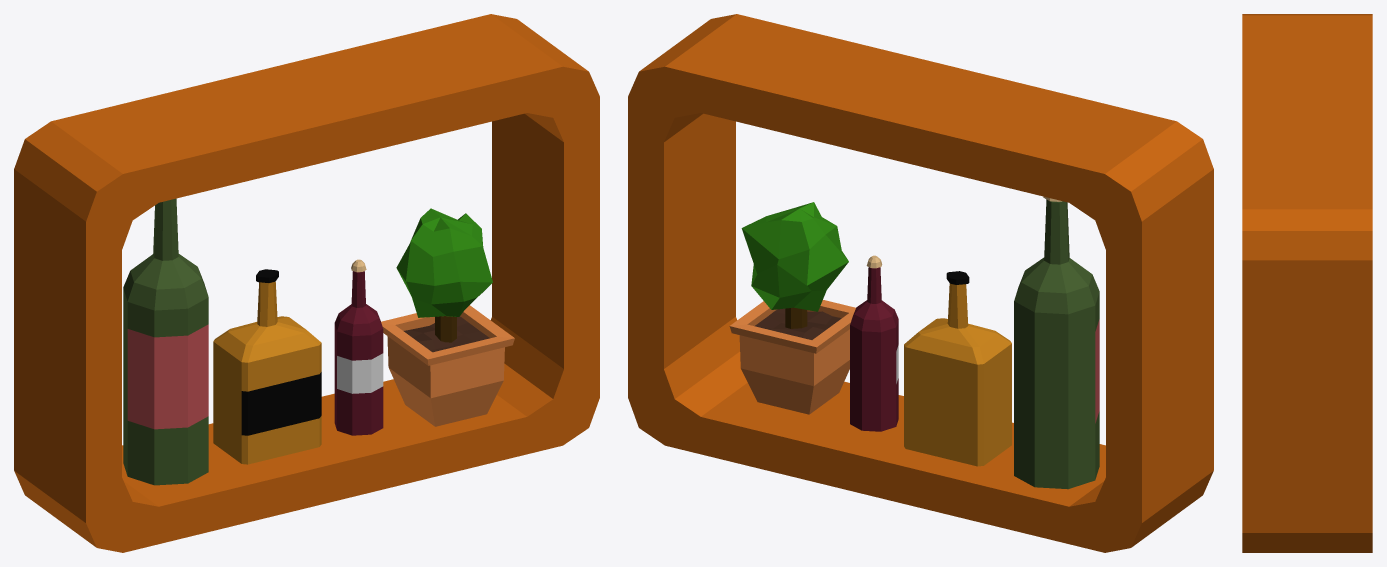
File: C_Drinks_1.fbx
The picture shows the model from 3 angles, left to right: view 1: azimuth 30°, elevation 25°; view 2: azimuth 150°, elevation 25°; view 3: azimuth 270°, elevation 25°; orthographic projection. The views are drawn at different scales.
Visible parts, largest first — view 1: C_Drinks_1; view 2: C_Drinks_1; view 3: C_Drinks_1.
Part boxes in pixels (bbox=[...]): C_Drinks_1: bbox=[14, 14, 599, 552]; C_Drinks_1: bbox=[628, 14, 1213, 552]; C_Drinks_1: bbox=[1242, 14, 1372, 552].
Bounding box in the file's own units: 725 × 176 × 511.
